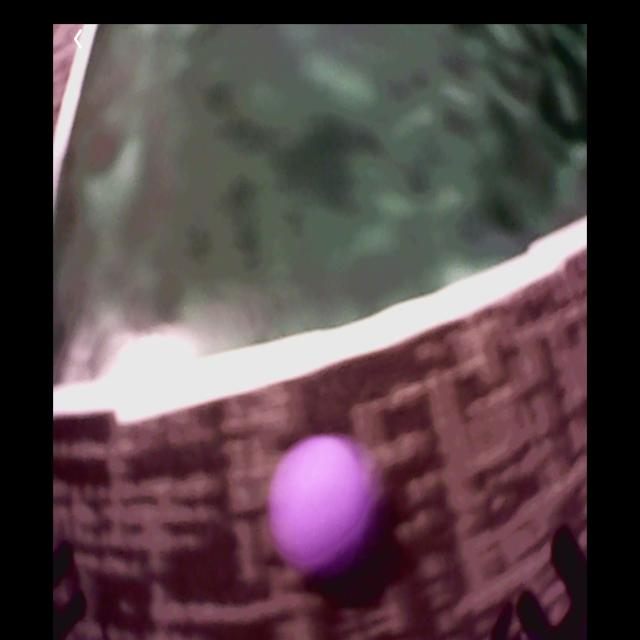ball: (269, 433, 374, 580)
